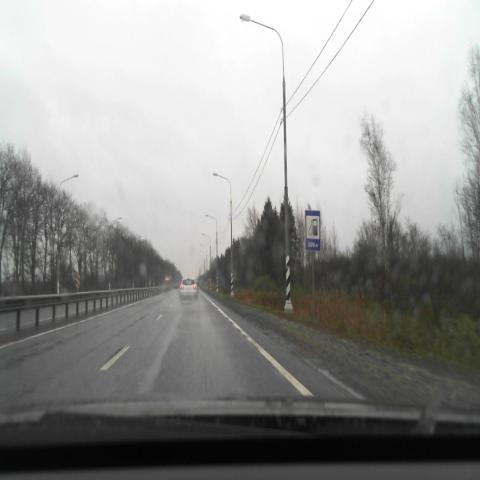7_3: (305, 210, 321, 251)
